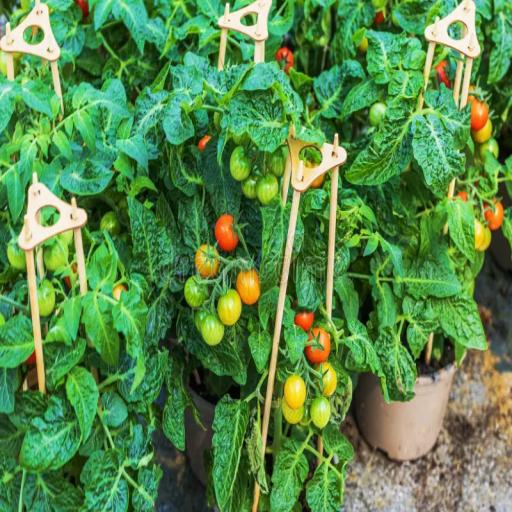tomato: (236, 268, 261, 305), (306, 327, 330, 363), (217, 289, 241, 325), (215, 214, 238, 251), (195, 245, 220, 278), (44, 237, 68, 271), (284, 374, 306, 410), (230, 146, 252, 181), (201, 314, 224, 346), (316, 362, 337, 396), (257, 173, 279, 205), (310, 397, 330, 429), (185, 278, 207, 307), (267, 146, 287, 177), (38, 280, 55, 316), (8, 238, 26, 270), (484, 201, 503, 231), (471, 98, 488, 131), (282, 400, 305, 424), (100, 211, 120, 235), (472, 119, 492, 143), (479, 138, 499, 161), (276, 47, 293, 74), (436, 60, 450, 88), (370, 102, 386, 126), (295, 312, 314, 332), (242, 176, 257, 199), (477, 228, 491, 252), (194, 309, 207, 333), (475, 219, 485, 250), (75, 0, 89, 18), (113, 284, 127, 301), (233, 133, 250, 146), (59, 231, 73, 246), (198, 136, 211, 151), (300, 409, 311, 426), (311, 175, 325, 188), (0, 51, 7, 76), (311, 175, 324, 188), (25, 350, 36, 365), (214, 112, 222, 132), (358, 37, 367, 54), (375, 9, 385, 24), (372, 0, 387, 10), (392, 10, 400, 28), (457, 191, 467, 202), (21, 0, 30, 10), (64, 276, 71, 288), (0, 313, 5, 326)
